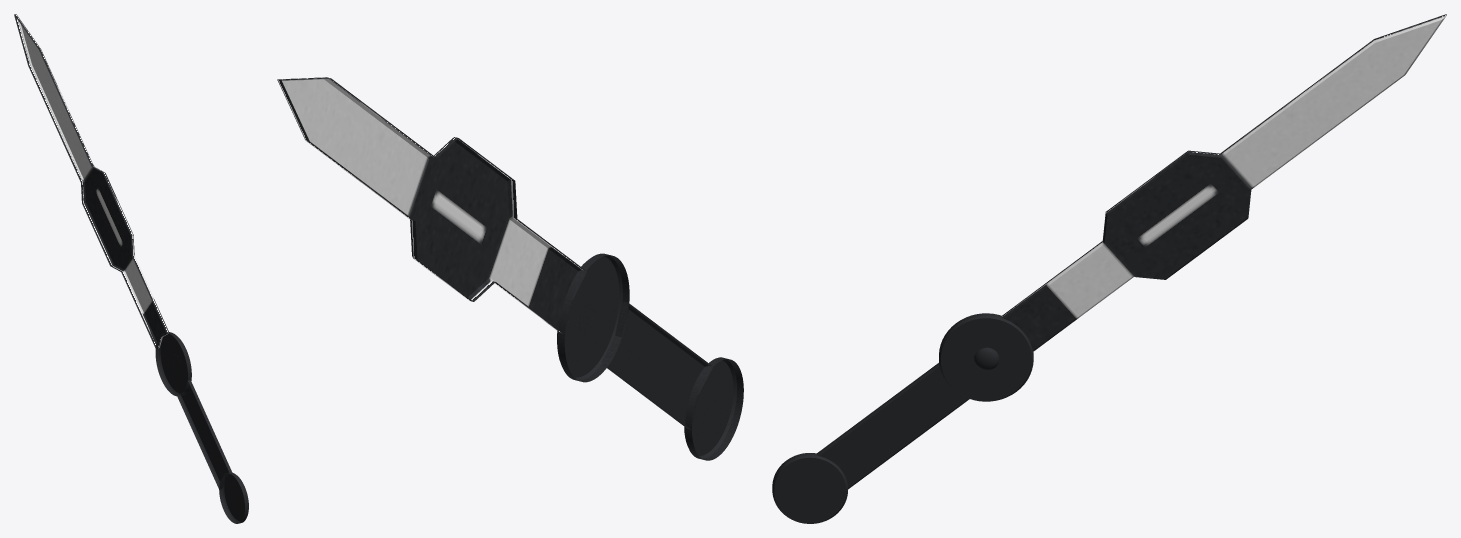
File: needle_1.obj
3 views of the same model, side by side, from view 1: azimuth 30°, elevation 25°; view 2: azimuth 150°, elevation 25°; view 3: azimuth 270°, elevation 25° (orthographic). The views are drawn at different scales.
Visible parts, largest first — view 1: L_PD_ITEd_arr_L; view 2: L_PD_ITEd_arr_L; view 3: L_PD_ITEd_arr_L.
Boxes of the visible parts, <box> form: L_PD_ITEd_arr_L: <box>14,14,248,523</box>; L_PD_ITEd_arr_L: <box>277,77,743,460</box>; L_PD_ITEd_arr_L: <box>772,14,1446,523</box>.
Size of the model in its own units: 0.6139 by 29.51 by 35.53.
2 materials, 2 textured.
